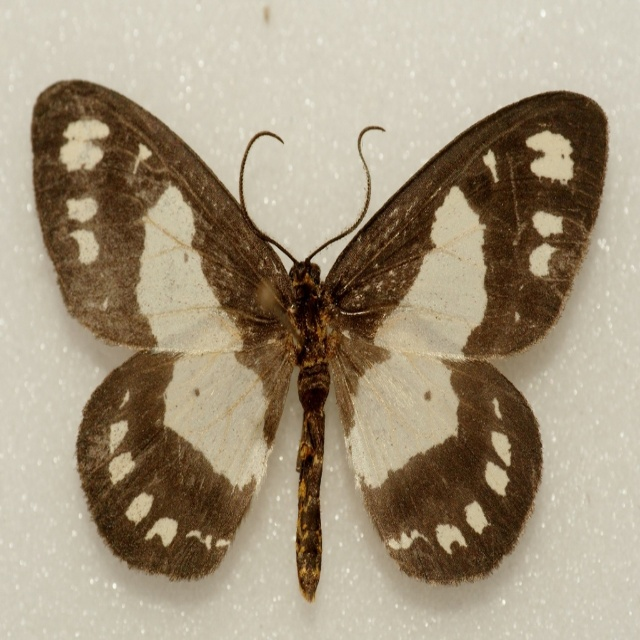Butterfly: (36, 77, 640, 605)
